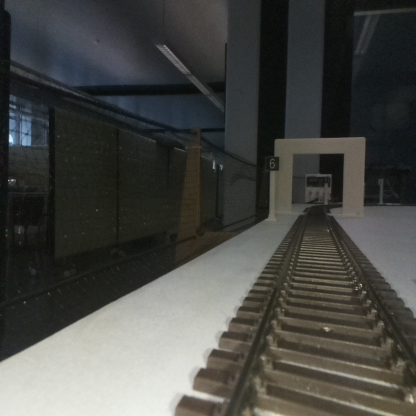black-info-6: (266, 156, 279, 221)
